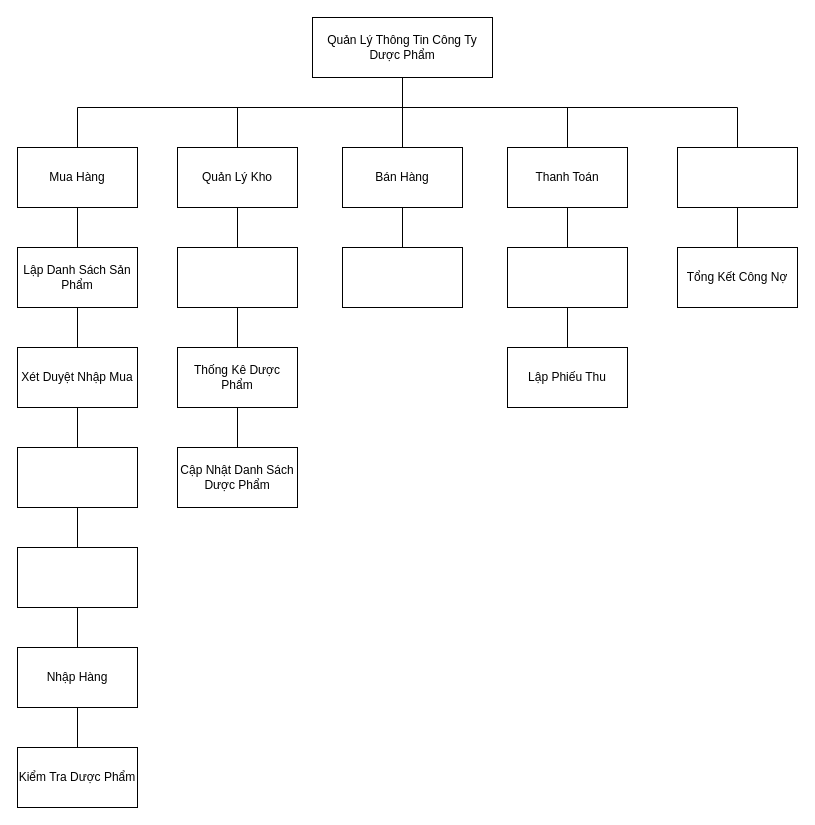
This 815x825 diagram has some shape labels left out. Each missing label, with the centre of its shape:
"Lập Danh Sách Nhập Mua" goes at pixel 77 477.
"Lập Hóa Đơn" goes at pixel 567 277.
"Lập Đơn Bán Hàng" goes at pixel 402 277.
"Lập Đơn Đặt Hàng" goes at pixel 77 577.
"Nhập Kho" goes at pixel 237 277.
"Thống Kê" goes at pixel 737 177.
